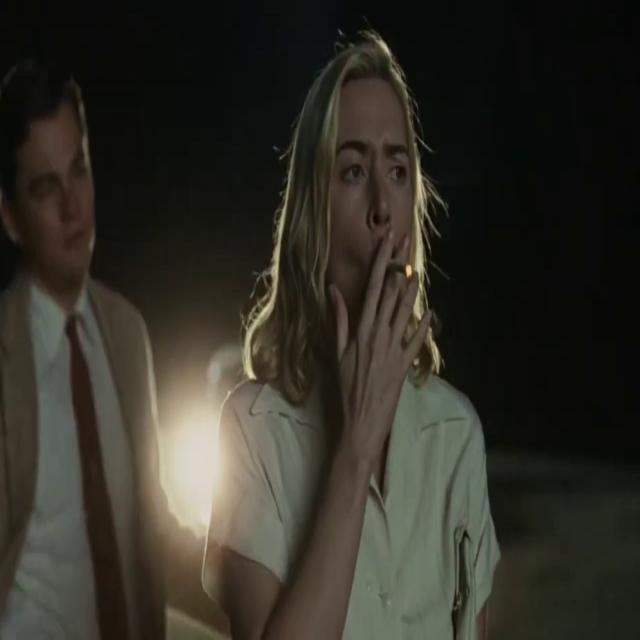Smooking: (382, 255, 416, 283)
